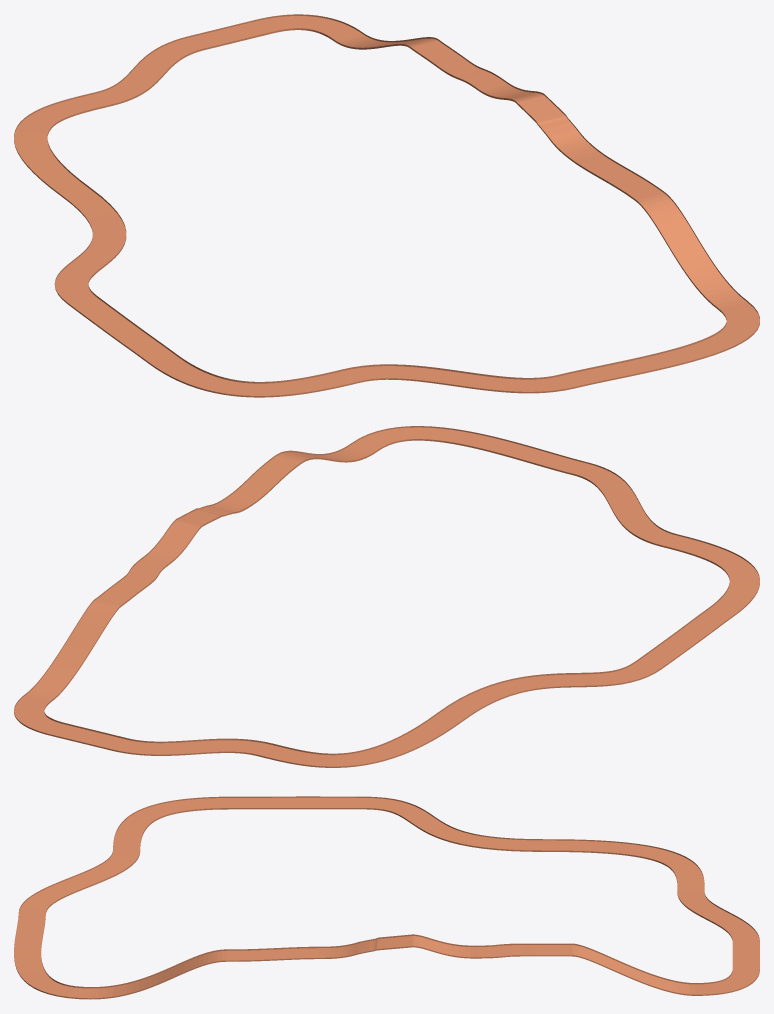
File: TrackCurve.fbx
The picture shows the model from 3 angles, top to bottom: view 1: azimuth 30°, elevation 25°; view 2: azimuth 150°, elevation 25°; view 3: azimuth 270°, elevation 25°; orthographic projection. The views are drawn at different scales.
Visible parts, largest first — view 1: Track_Curve_1; view 2: Track_Curve_1; view 3: Track_Curve_1.
Boxes of the visible parts, x1,y1,x2,y2 form: Track_Curve_1: [14, 14, 759, 397]; Track_Curve_1: [14, 426, 759, 767]; Track_Curve_1: [14, 796, 759, 999].
Size of the model in its own units: 776 by 94.84 by 1205.
